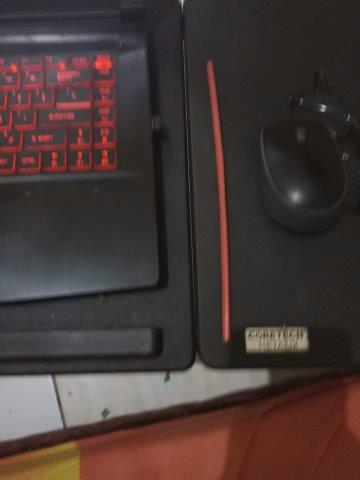sedotan: (206, 61, 229, 341)
